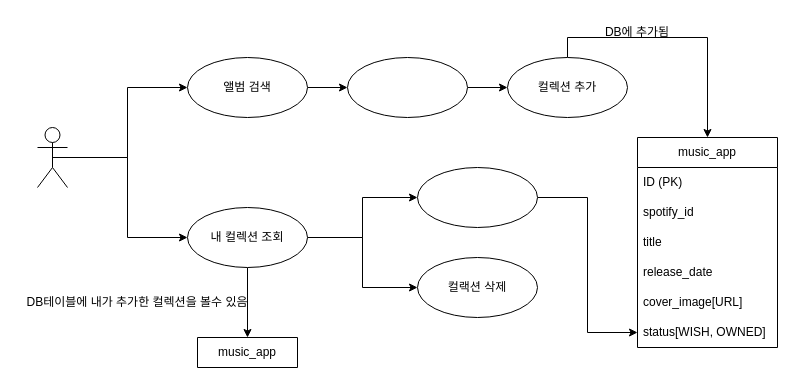
This 795x385 diagram has some shape labels left out. The centre of each missing label's shape, as x and y in pixels:
Actor: the point at 52,157
검색 결과 확인: the point at 407,87
상태 변경 (WISH ↔ OWNED): the point at 477,197
